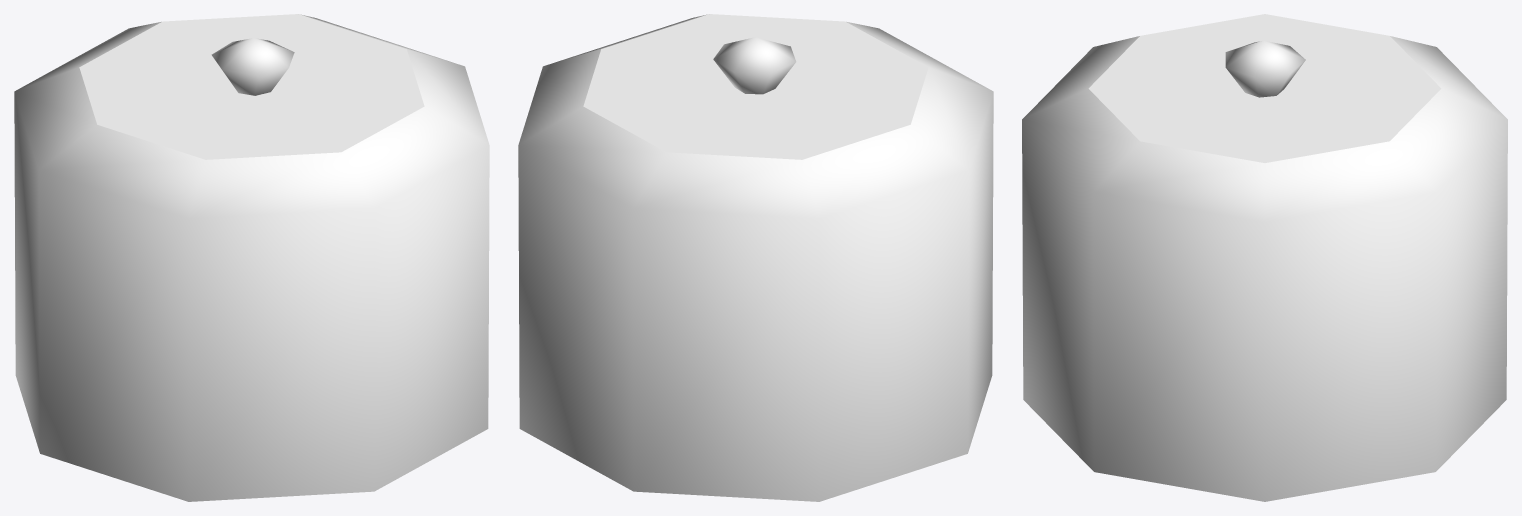
Rendered from Cake_Display_Cover.FBX.
3 renders of one model, left to right at view 1: azimuth 30°, elevation 25°; view 2: azimuth 150°, elevation 25°; view 3: azimuth 270°, elevation 25°, orthographic.
Parts seen in each view (by area): view 1: Lid; view 2: Lid; view 3: Lid.
Boxes of the visible parts, x1,y1,x2,y2 form: Lid: (14, 14, 489, 501); Lid: (518, 14, 993, 501); Lid: (1022, 14, 1507, 501).
Bounding box in the file's own units: 85.06 × 69.48 × 85.06.
